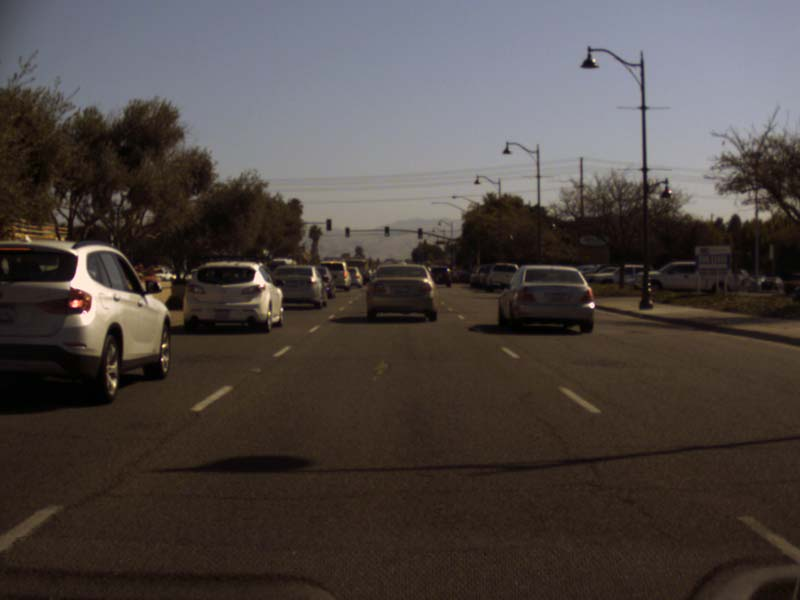Green: (344, 227, 349, 237), (384, 226, 389, 236), (417, 228, 422, 238), (470, 245, 474, 255)
